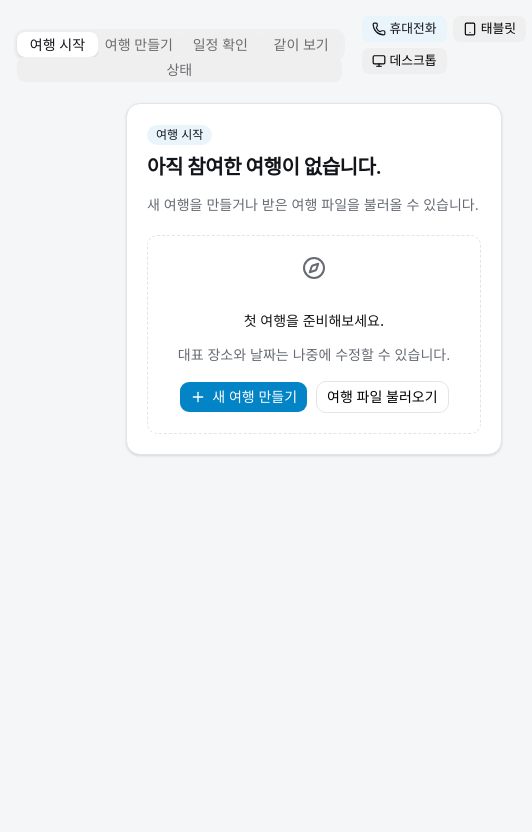
GalleryStoryboard › moves through the core trip flow without leaving the storyboard
Expected: the heading "아직 참여한 여행이 없습니다." is shown, [147,155,381,179]
Click the button "새 여행 만들기" at {"x": 244, "y": 397}, box [179,381,308,413]
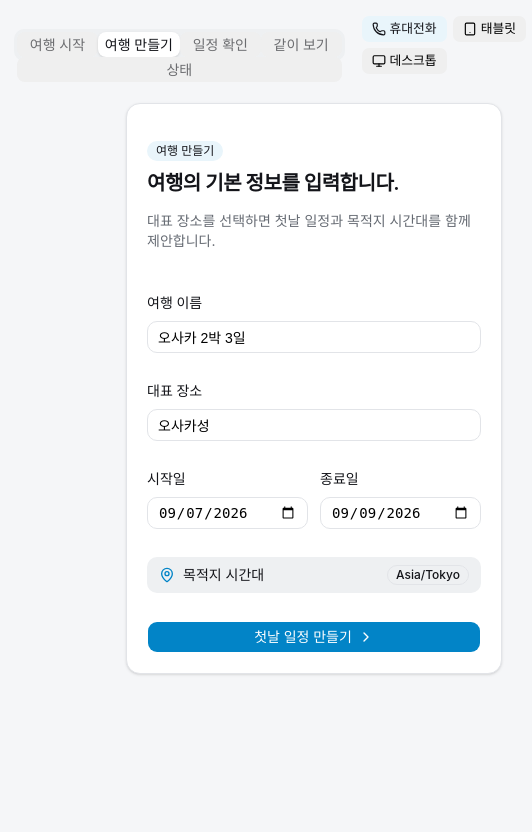
Expected: the heading "여행의 기본 정보를 입력합니다." is shown, [147,171,399,195]
Click the button "첫날 일정 만들기" at {"x": 314, "y": 637}, box [147,621,481,653]
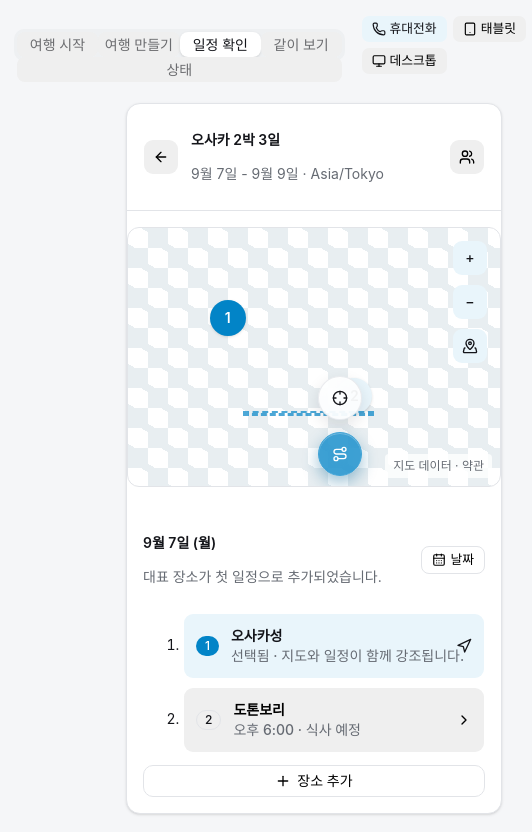
Expected: the text "대표 장소가 첫 일정으로 추가되었습니다." is shown, [143,567,382,587]
